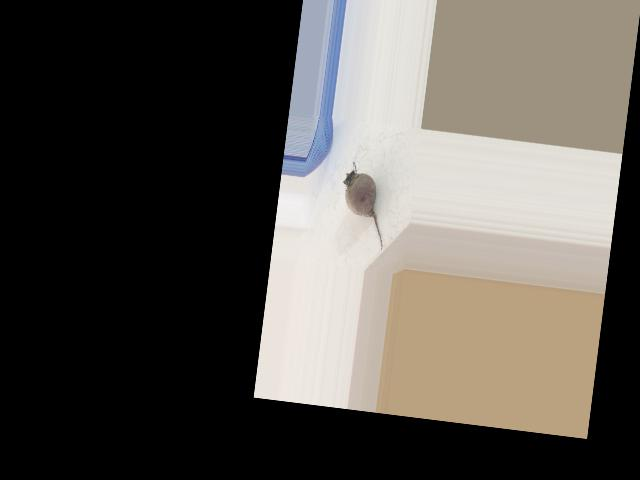beet: (336, 161, 393, 250)
